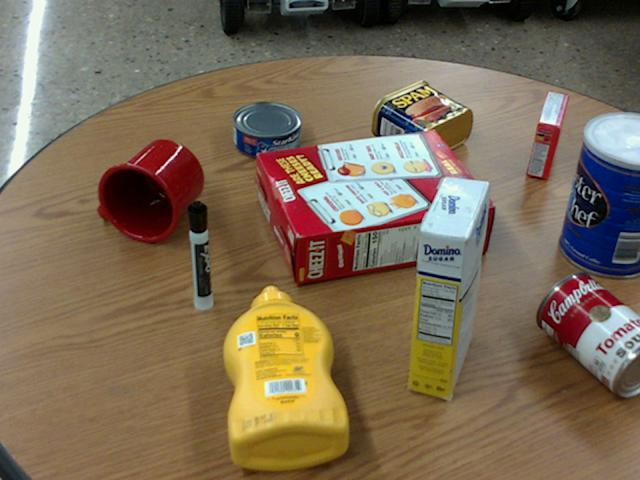cracker_box: (255, 130, 492, 284)
gelatin_box: (527, 91, 568, 178)
large_marker: (186, 200, 211, 309)
master_chef_can: (559, 112, 639, 277)
mug: (97, 139, 202, 242)
mustard_bottle: (223, 286, 348, 468)
potted_meat_can: (371, 80, 472, 158)
sugar_box: (407, 176, 489, 398)
tomato_soup_can: (537, 270, 639, 393)
tuna_fish_can: (232, 101, 301, 156)
